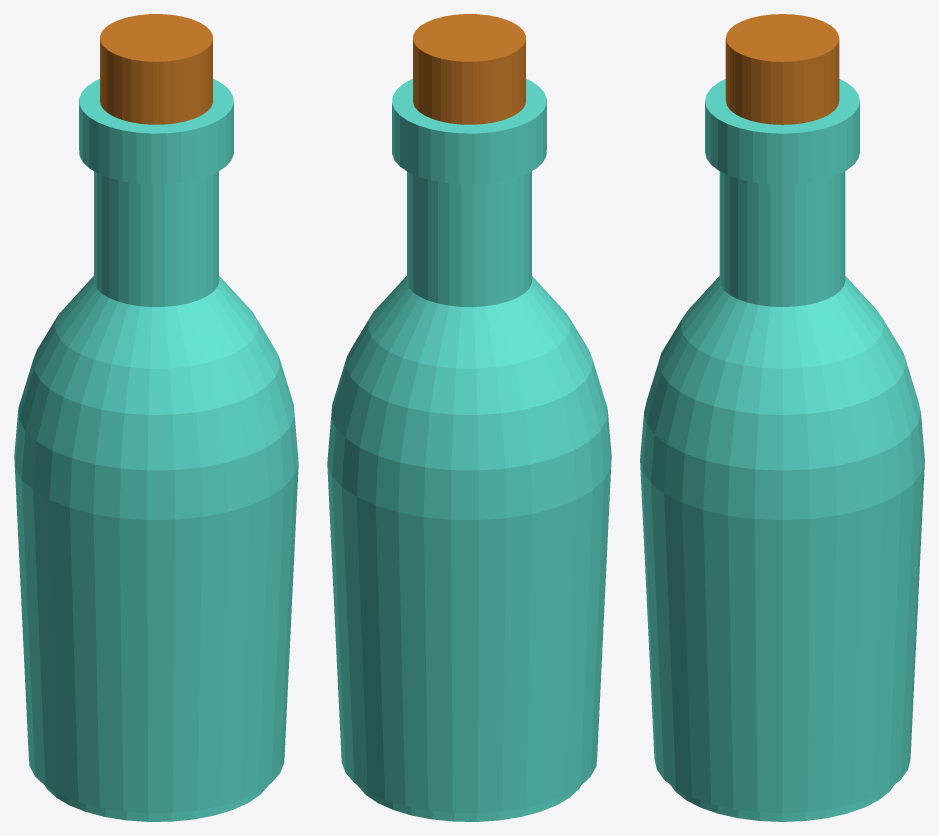
The model's file is prop_Puzzle_Botella3.fbx.
The picture shows the model from 3 angles, left to right: view 1: azimuth 30°, elevation 25°; view 2: azimuth 150°, elevation 25°; view 3: azimuth 270°, elevation 25°; orthographic projection.
Parts seen in each view (by area): view 1: Botella3; view 2: Botella3; view 3: Botella3.
Part boxes in pixels (box(x1,y1,x2,y2)): Botella3: box(14, 14, 298, 821); Botella3: box(327, 14, 611, 821); Botella3: box(640, 14, 924, 821).
Bounding box in the file's own units: 122 × 348 × 122.
